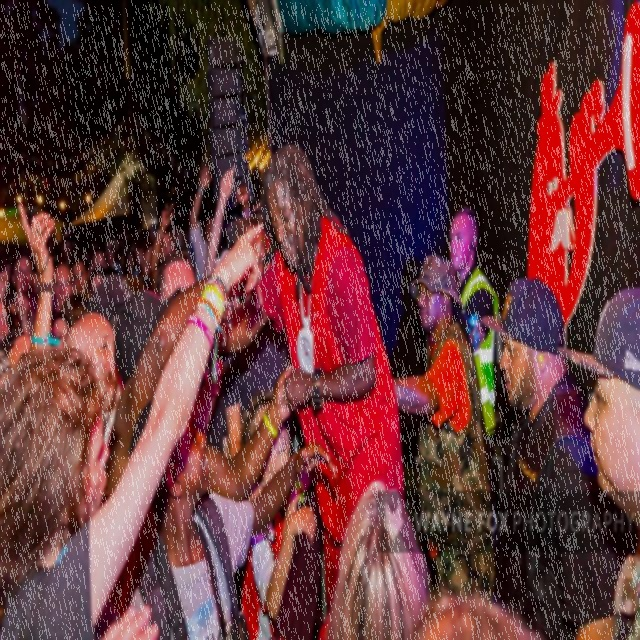pessoa: (0, 211, 274, 639), (219, 140, 407, 612), (128, 396, 338, 638), (482, 270, 617, 637), (390, 250, 500, 606), (556, 280, 640, 639), (0, 165, 114, 382), (113, 164, 264, 310), (238, 385, 320, 639), (320, 479, 434, 639), (202, 315, 295, 464), (448, 204, 501, 462), (434, 591, 534, 639), (97, 599, 167, 639), (92, 379, 119, 479), (156, 246, 197, 306)
